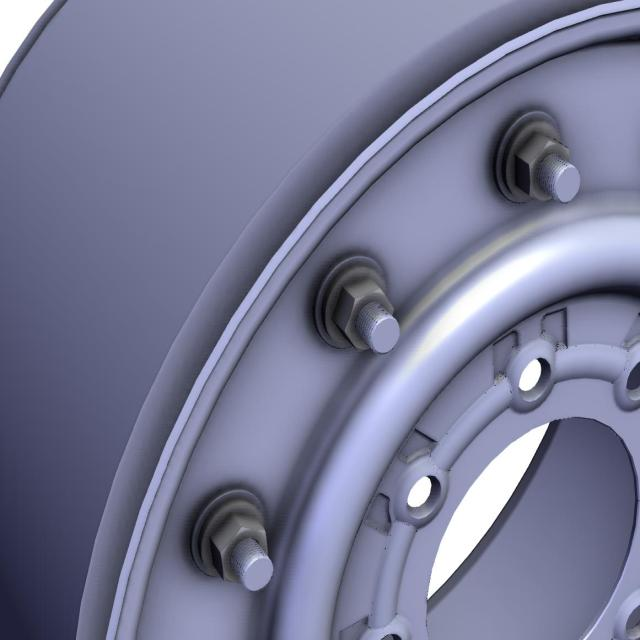bolt nut: (330, 276, 396, 356), (208, 509, 268, 587), (514, 132, 572, 204)
